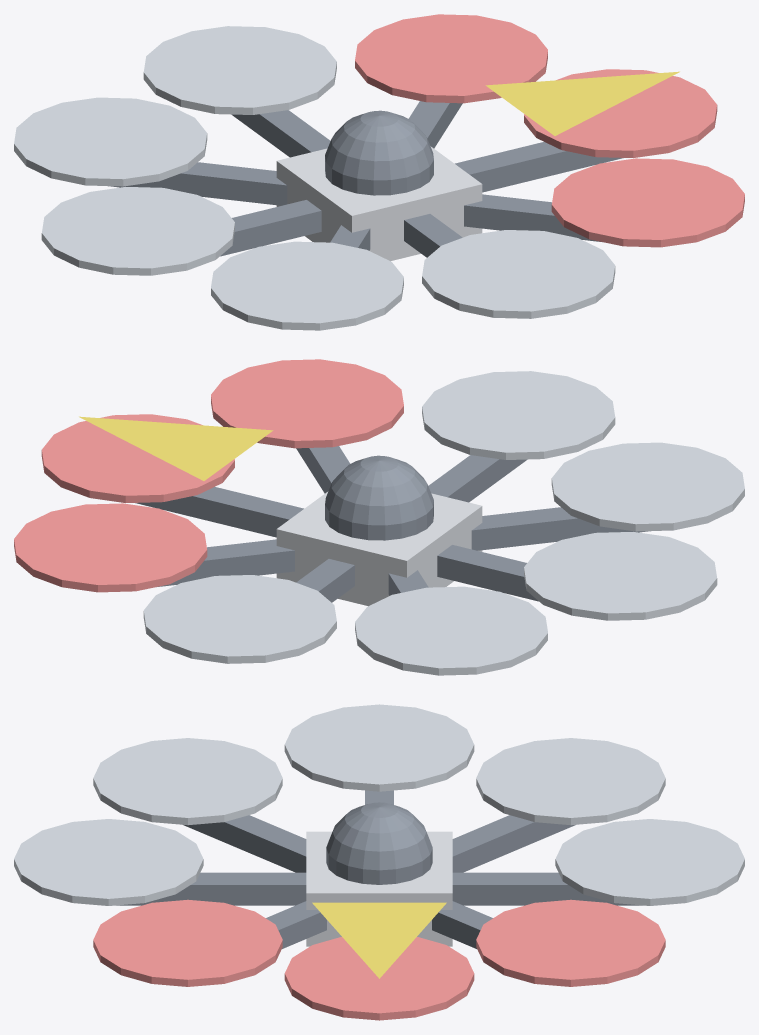
The model's file is octo.glb.
The picture shows the model from 3 angles, top to bottom: view 1: azimuth 30°, elevation 25°; view 2: azimuth 150°, elevation 25°; view 3: azimuth 270°, elevation 25°; orthographic projection. The views are drawn at different scales.
Size of the model in its own units: 32.4 by 5.3 by 32.4.
